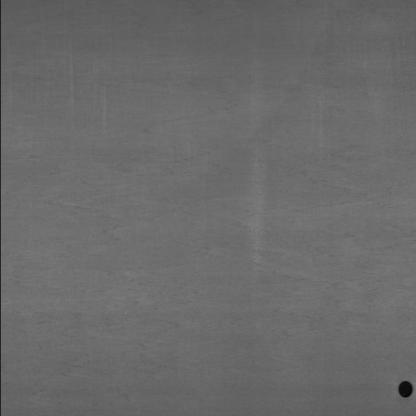punching_hole: (392, 376, 415, 400)
